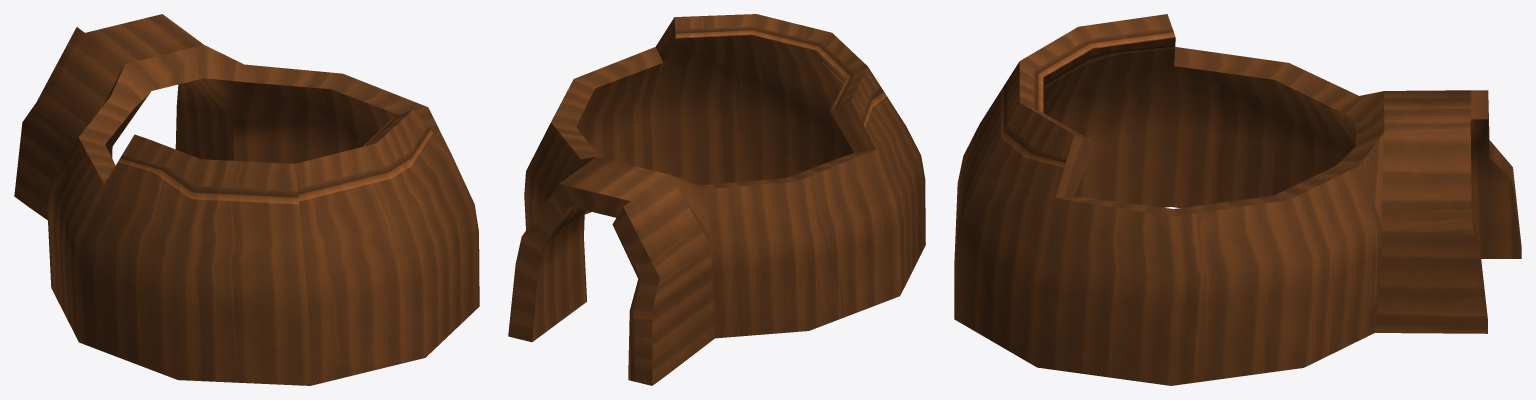
Rendered from Snow_Igloo.fbx.
The picture shows the model from 3 angles, left to right: view 1: azimuth 30°, elevation 25°; view 2: azimuth 150°, elevation 25°; view 3: azimuth 270°, elevation 25°; orthographic projection. The views are drawn at different scales.
Parts seen in each view (by area): view 1: Cylinder; view 2: Cylinder; view 3: Cylinder.
Boxes of the visible parts, box(x1,y1,x2,y2) form: Cylinder: box(14, 14, 479, 385); Cylinder: box(508, 14, 925, 385); Cylinder: box(954, 14, 1521, 385).
Size of the model in its own units: 750 by 375 by 928.
